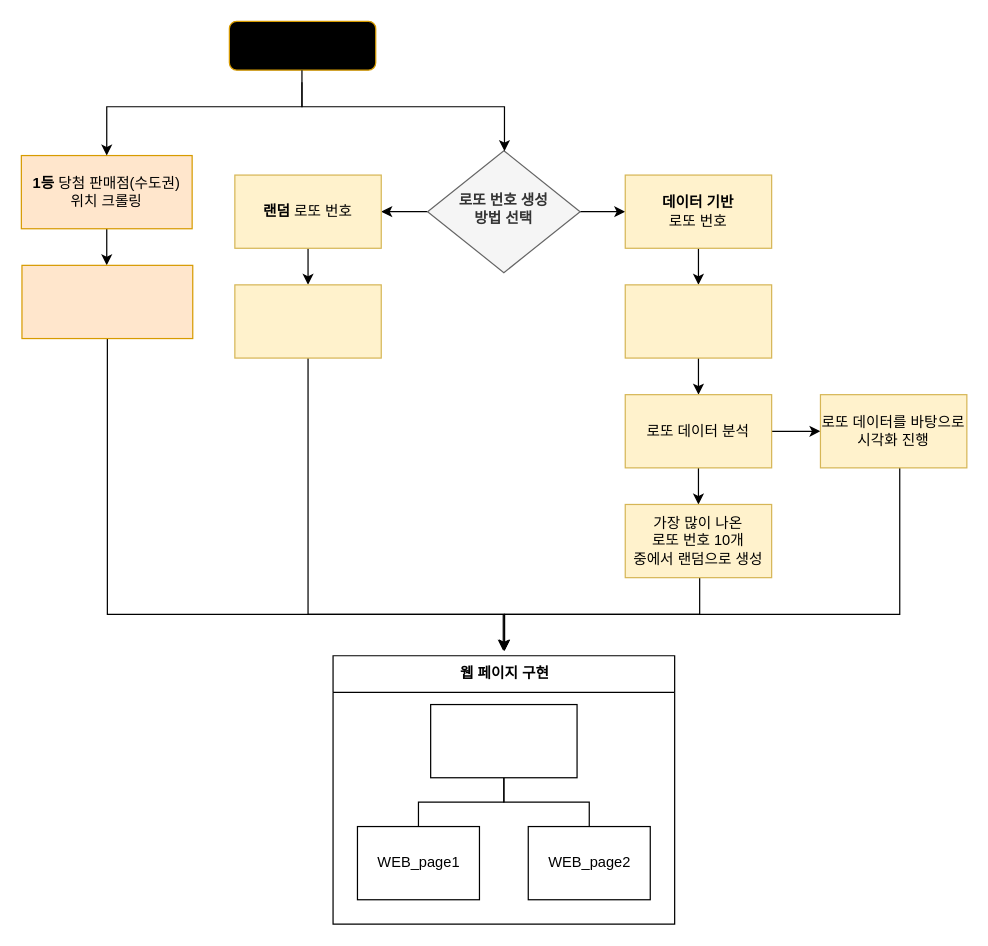
This 988x946 diagram has some shape labels left out. The shapes that lost their labels are listed below. From the top down, each one's box as (x1, y1, x2, y2) in pixels, then its label:
(228, 20, 376, 70): DOTTO
(21, 264, 193, 339): 지도 시각화 진행
(234, 284, 381, 358): 1~45 중 6개 번호 랜덤으로 생성
(624, 284, 772, 358): 역대 로또 데이터 크롤링
(429, 703, 577, 778): WEB_main
